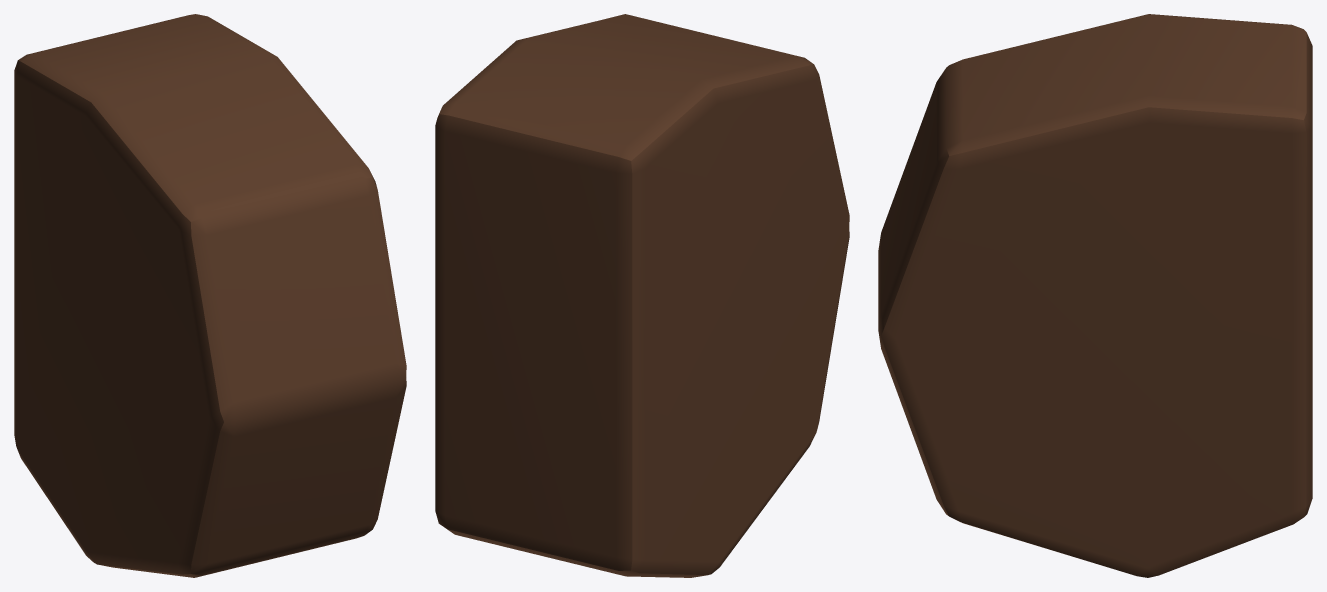
Rendered from mod_reaper_sawn_stock.glb.
3 renders of one model, left to right at view 1: azimuth 30°, elevation 25°; view 2: azimuth 150°, elevation 25°; view 3: azimuth 270°, elevation 25°, orthographic. The views are drawn at different scales.
Parts seen in each view (by area): view 1: Stock; view 2: Stock; view 3: Stock.
Boxes of the visible parts, x1=… form: Stock: x1=14, y1=14, x2=406, y2=577; Stock: x1=435, y1=14, x2=849, y2=577; Stock: x1=878, y1=14, x2=1312, y2=577.
Size of the model in its own units: 0.034 by 0.0774 by 0.0634.
